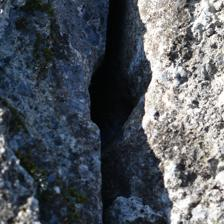Crack: (40, 1, 116, 218)
